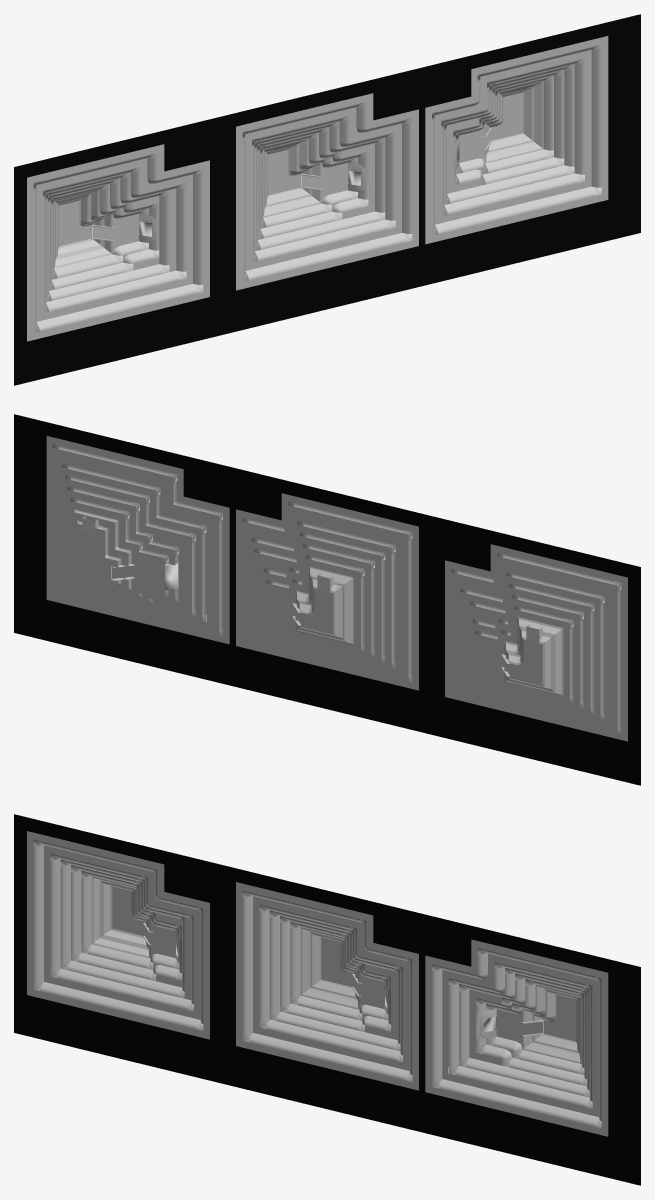
File: Subterranean-Passages.obj
The picture shows the model from 3 angles, top to bottom: view 1: azimuth 30°, elevation 25°; view 2: azimuth 150°, elevation 25°; view 3: azimuth 330°, elevation 25°; orthographic projection.
Parts seen in each view (by area): view 1: map; view 2: map; view 3: map.
Part boxes in pixels (left/top/right/bottom): map: left=14, top=14, right=640, bottom=385; map: left=14, top=414, right=640, bottom=785; map: left=14, top=814, right=640, bottom=1185.
Size of the model in its own units: 96 by 32 by 7.06.
